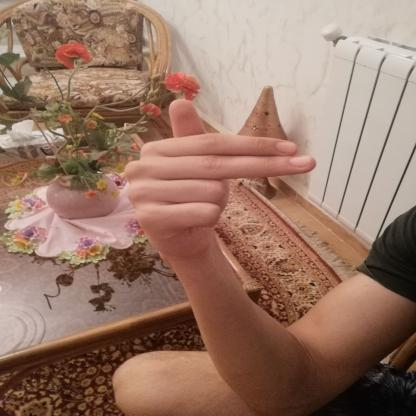GHAYN: (109, 91, 328, 266)
